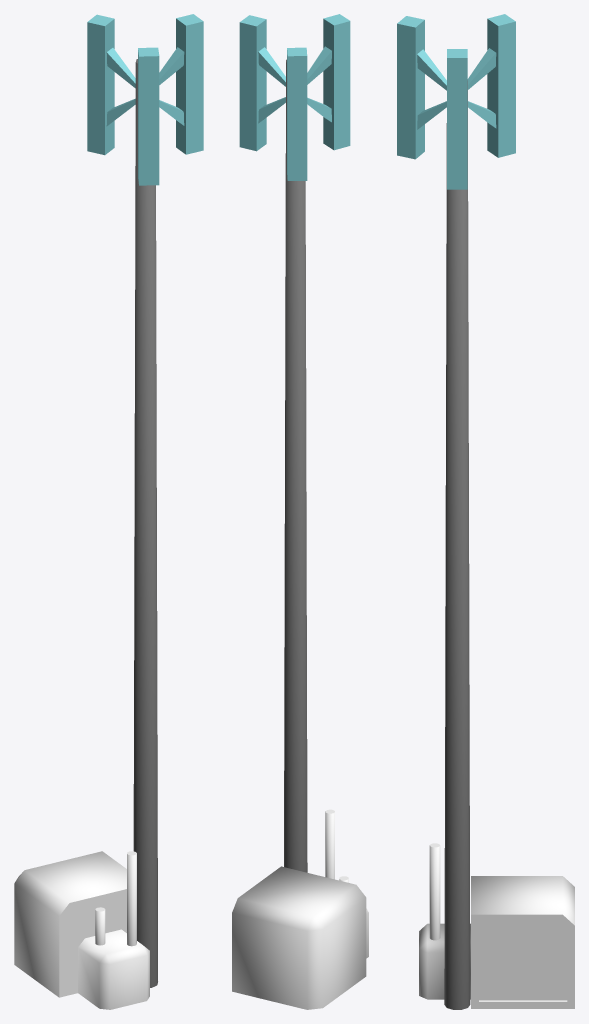
The model's file is Antena 5G.fbx.
3 renders of one model, left to right at view 1: azimuth 30°, elevation 25°; view 2: azimuth 150°, elevation 25°; view 3: azimuth 270°, elevation 25°, orthographic. The views are drawn at different scales.
Parts seen in each view (by area): view 1: Pole, Caja Antena, Antena B, Antena A, Antena C, Cylinder.001; view 2: Caja Antena, Pole, Antena A, Antena C, Antena B, Cylinder.001; view 3: Pole, Caja Antena, Antena B, Antena C, Antena A, Cylinder.001.
Boxes of the visible parts, box(x1,y1,x2,y2) form: Pole: box(133, 59, 157, 987); Caja Antena: box(14, 851, 149, 1009); Antena B: box(87, 14, 135, 155); Antena A: box(159, 14, 203, 154); Antena C: box(138, 47, 159, 185); Cylinder.001: box(127, 851, 136, 946); Caja Antena: box(232, 866, 368, 1009); Pole: box(284, 59, 307, 872); Antena A: box(239, 15, 285, 151); Antena C: box(307, 14, 350, 150); Antena B: box(287, 47, 307, 180); Cylinder.001: box(325, 809, 334, 879); Pole: box(444, 80, 470, 1009); Caja Antena: box(419, 876, 574, 1008); Antena B: box(467, 14, 515, 157); Antena C: box(397, 16, 446, 159); Antena A: box(447, 49, 467, 189); Cylinder.001: box(429, 843, 440, 940).
Bounding box in the file's own units: 301 × 2066 × 342.
